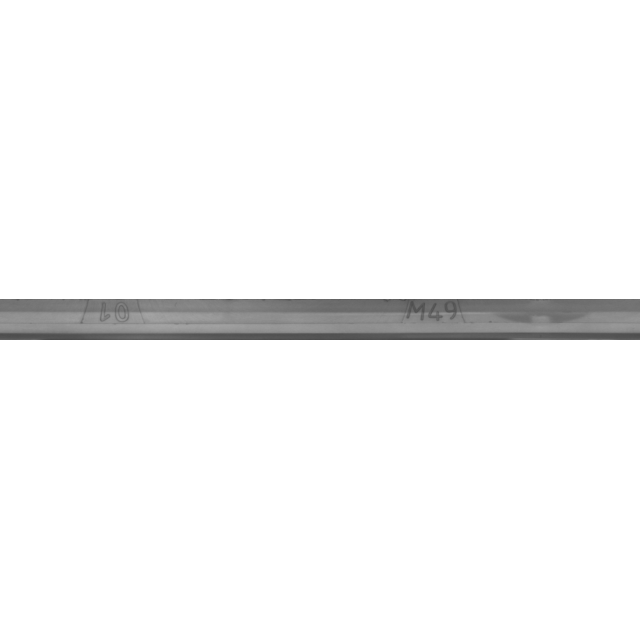mohao: (339, 270, 539, 370)
xuehao: (19, 270, 219, 370)
